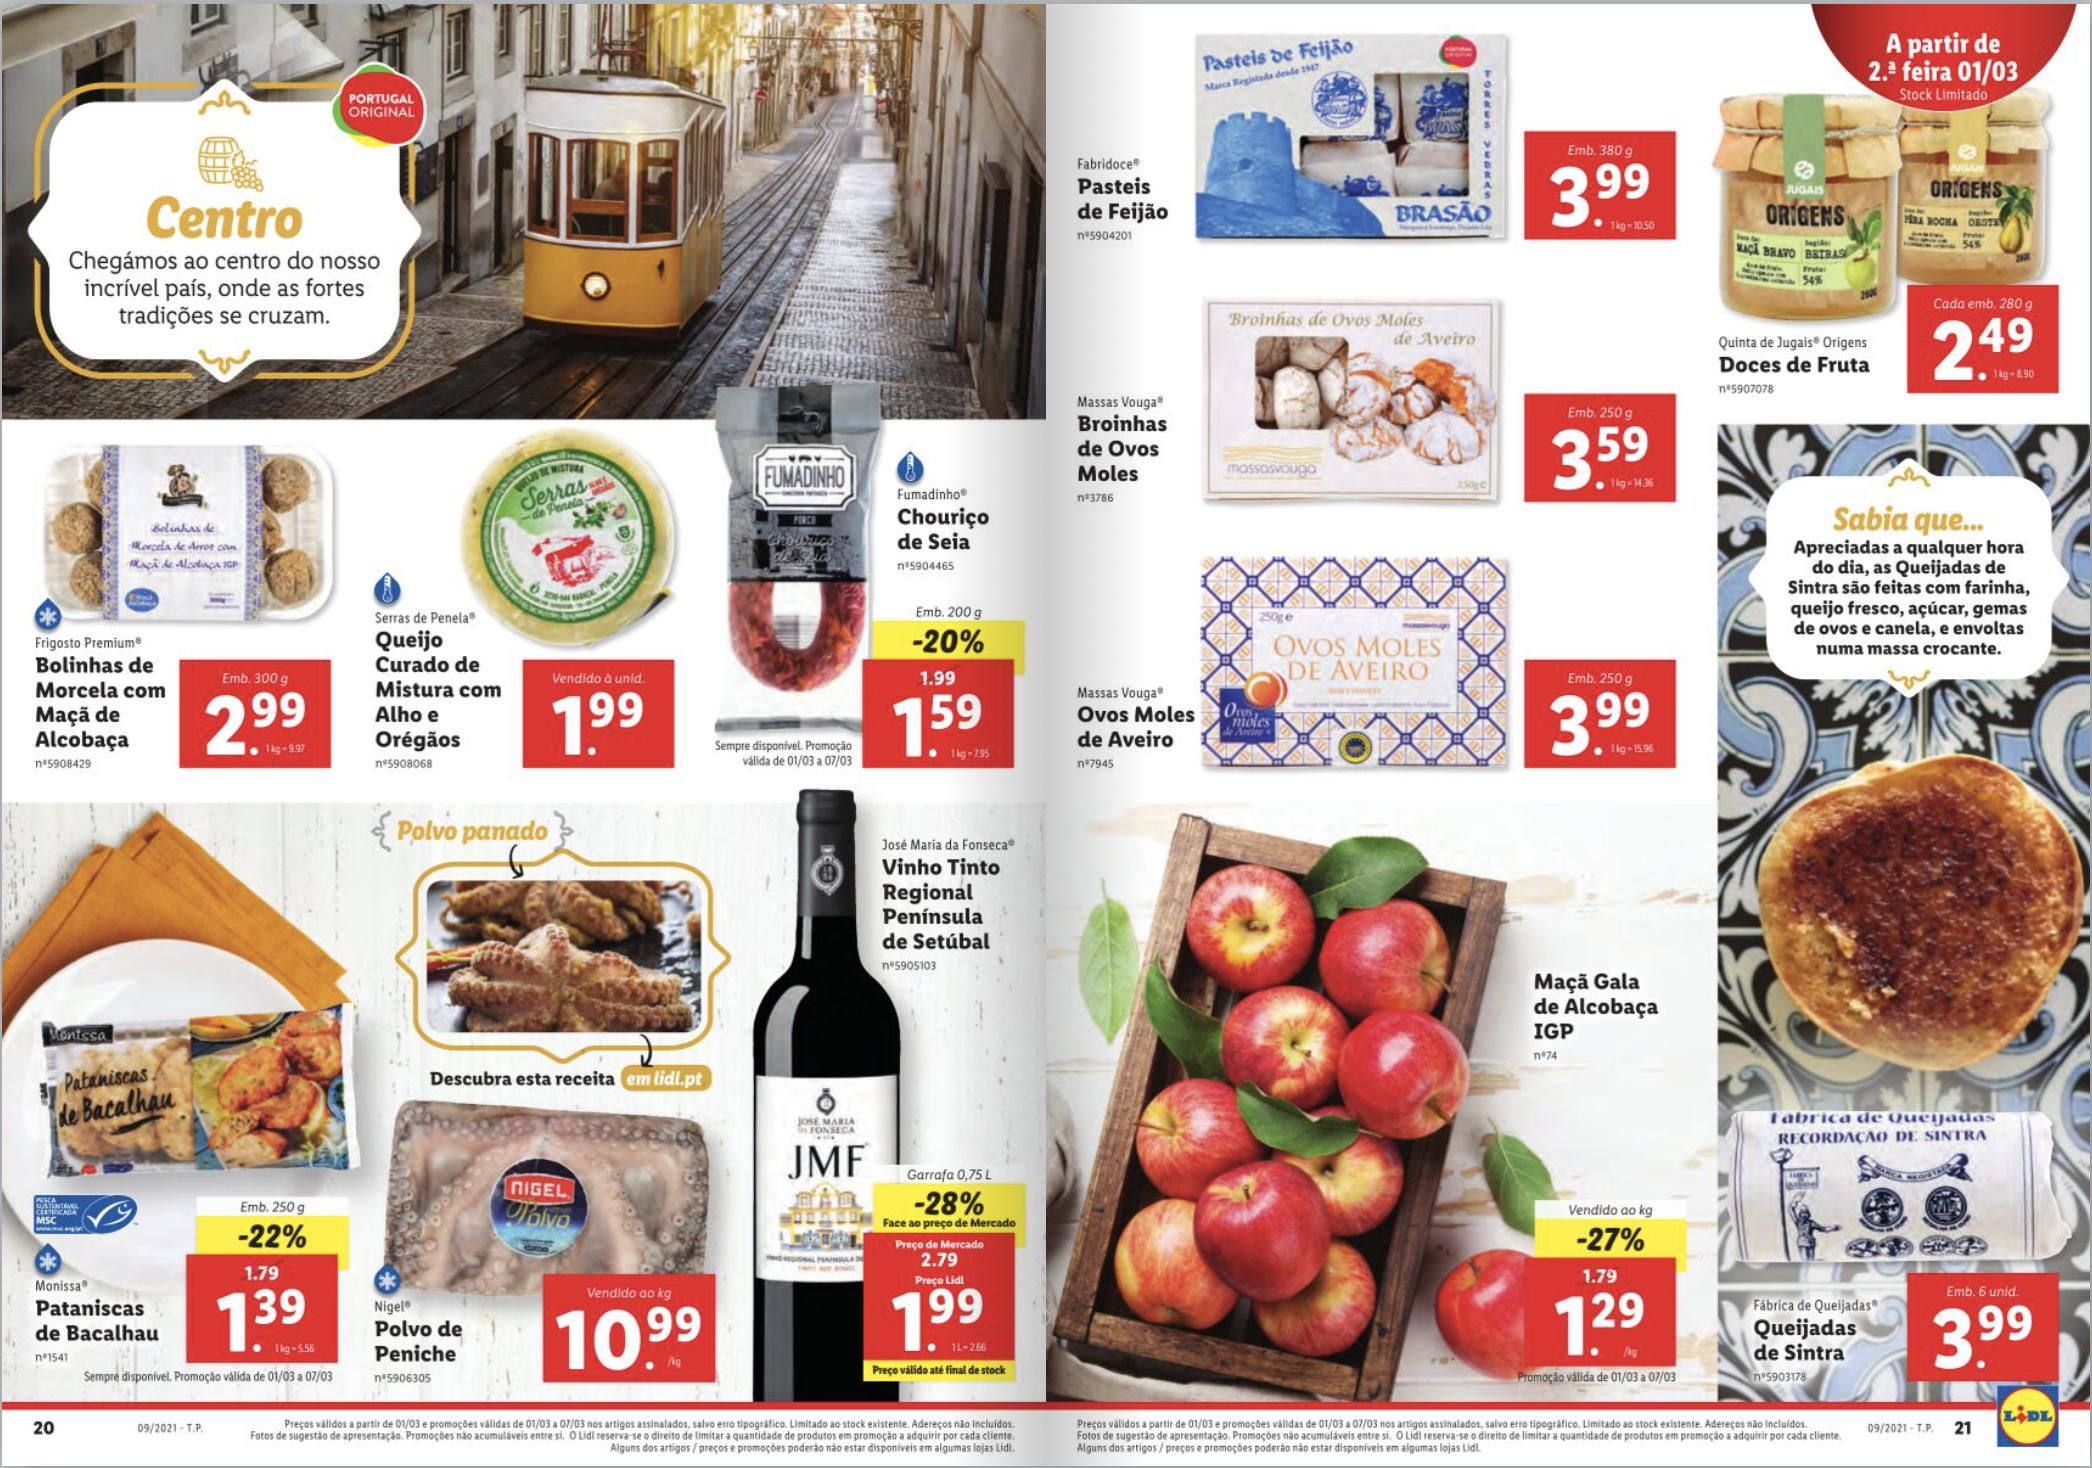name: (375, 623, 506, 752), (32, 647, 172, 752), (877, 852, 1005, 959), (1521, 967, 1666, 1047), (1060, 414, 1175, 488), (25, 1295, 165, 1353), (1060, 700, 1202, 755), (1060, 170, 1178, 229), (1745, 1311, 1861, 1369), (1715, 350, 1877, 391), (375, 1314, 475, 1373), (887, 506, 998, 557)
price: (552, 1303, 711, 1376), (1931, 309, 2043, 391), (202, 690, 320, 767), (1547, 685, 1652, 770), (1540, 1282, 1655, 1358), (1925, 1299, 2040, 1376), (1540, 161, 1652, 235), (1547, 420, 1661, 488), (552, 685, 658, 759), (893, 689, 990, 763)
product: (1052, 790, 1706, 1411), (2, 835, 366, 1393), (734, 821, 1036, 1427), (1056, 2, 1696, 278), (1052, 550, 1706, 790), (1059, 291, 1687, 534), (687, 398, 1022, 787), (22, 426, 362, 790), (369, 1091, 734, 1427), (372, 423, 687, 787)
promotion: (227, 1217, 327, 1260), (1569, 1223, 1658, 1260), (911, 627, 987, 666), (911, 1188, 990, 1220)
